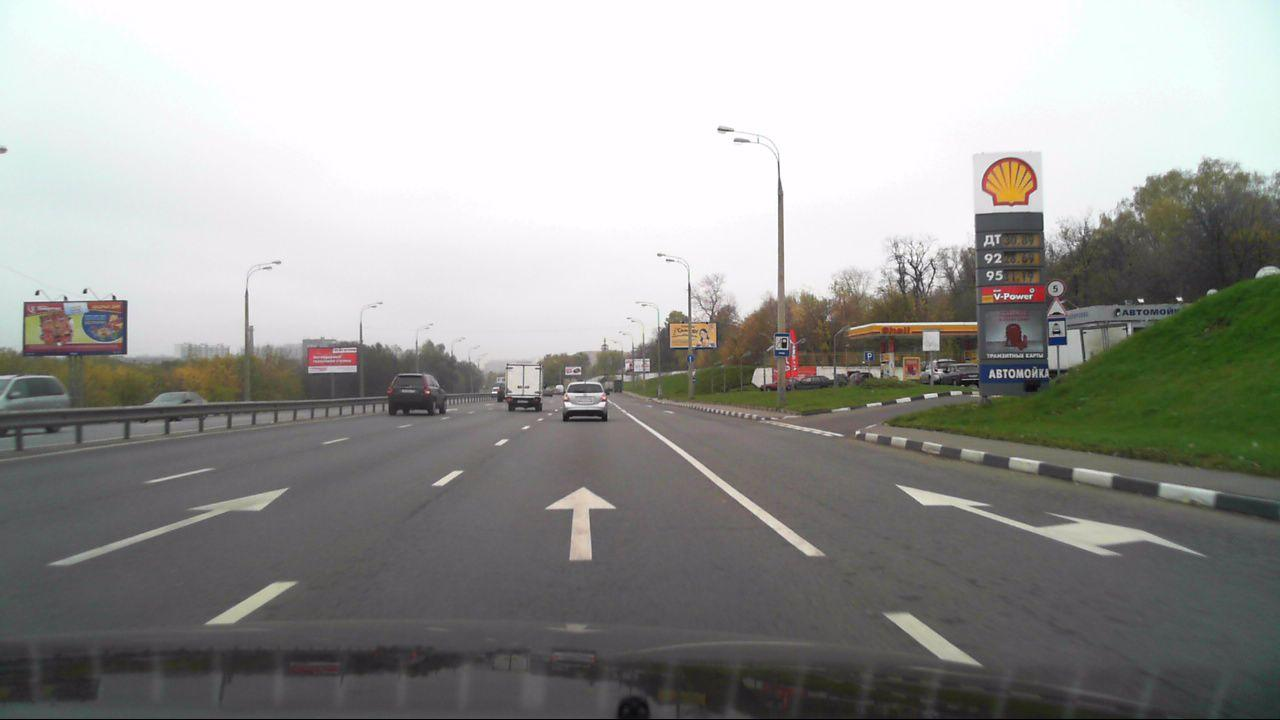road_sign: (773, 331, 791, 358), (1047, 298, 1068, 318), (1046, 279, 1066, 298)
